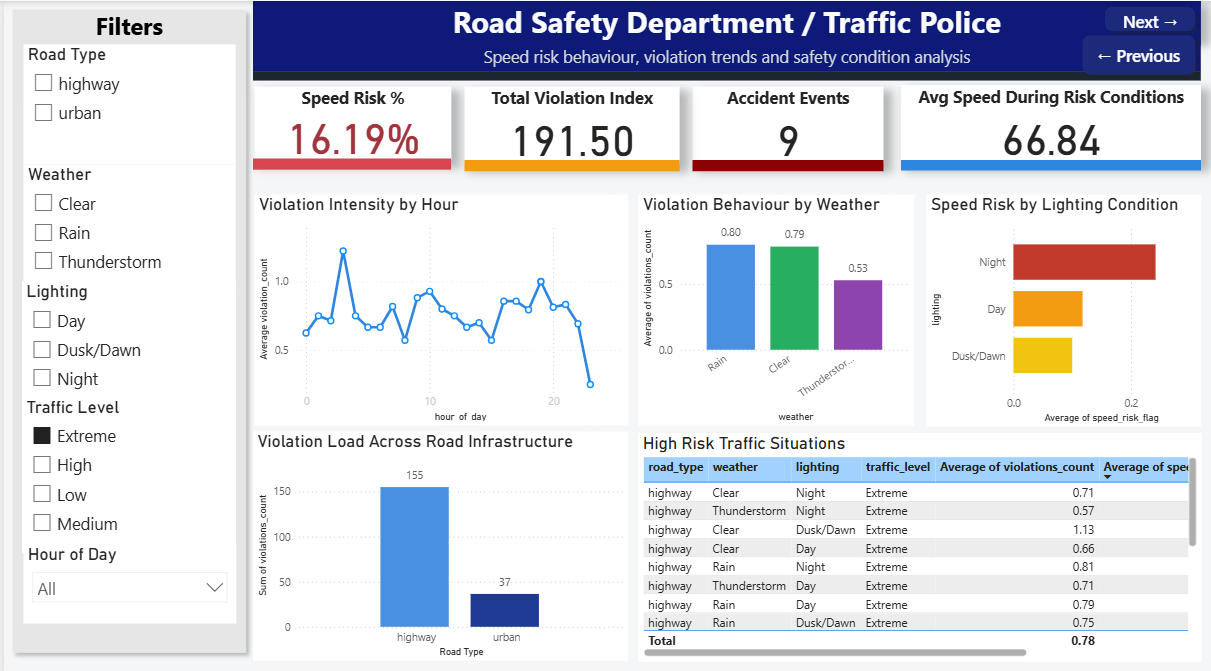

Layout of this report page (visuals, bound fields, positions):
{"tool":"powerbi","page":{"name":"Safety & Violations","canvas":[1366,768],"ordinal":1},"visuals":[{"type":"card","title":"Accident Events","fields":{"Values":["CountNonNull(traffic_cleaned_dataset.accident_occurred)"]},"box":[779.4,97,216.3,87.5],"z":0},{"type":"card","title":"Avg Speed During Risk Conditions","fields":{"Values":["traffic_cleaned_dataset.Avg Speed (Risk)"]},"box":[1014.6,95,339.3,88.2],"z":1000},{"type":"card","title":"Speed Risk %","fields":{"Values":["traffic_cleaned_dataset.Speed Risk %"]},"box":[283.1,97,222.7,82.7],"z":2000},{"type":"card","title":"Total Violation Index","fields":{"Values":["Sum(traffic_cleaned_dataset.violations_count)"]},"box":[521.7,97,243.4,87.5],"z":3000},{"type":"lineChart","title":"Violation Intensity by Hour","fields":{"Category":["traffic_cleaned_dataset.hour_of_day"],"Y":["Avg(traffic_cleaned_dataset.violations_count)"]},"box":[283.3,218.9,422.5,261.3],"z":4000},{"type":"columnChart","title":"Violation Load Across Road Infrastructure","fields":{"Category":["traffic_cleaned_dataset.road_type"],"Y":["Sum(traffic_cleaned_dataset.violations_count)"]},"box":[281.6,486.9,424.2,259.6],"z":5000},{"type":"barChart","title":"Speed Risk by Lighting Condition","fields":{"Category":["traffic_cleaned_dataset.lighting"],"Y":["Avg(traffic_cleaned_dataset.speed_risk_flag)"]},"box":[1043.4,218.9,310.5,263],"z":6000},{"type":"shape","box":[0,0,283.3,746.5],"z":7000},{"type":"slicer","title":"Weather","fields":{"Values":["traffic_cleaned_dataset.weather"]},"box":[22.3,184.5,240.2,151.1],"z":8000},{"type":"slicer","title":"Road Type","fields":{"Values":["traffic_cleaned_dataset.road_type"]},"box":[22.3,49.3,240.2,135.2],"z":9000},{"type":"slicer","title":"Traffic Level","fields":{"Values":["traffic_cleaned_dataset.traffic_level"]},"box":[20.7,448.6,241.8,176.6],"z":10000},{"type":"slicer","title":"Hour of Day","fields":{"Values":["traffic_cleaned_dataset.hour_of_day"]},"box":[22.1,614.2,240.9,89.9],"z":11000},{"type":"shape","title":"Road Safety Department / Traffic Police","box":[281.6,0,1072.3,89.9],"z":12000},{"type":"slicer","title":"Lighting","fields":{"Values":["traffic_cleaned_dataset.lighting"]},"box":[20.7,316.5,241.8,132],"z":13000},{"type":"clusteredColumnChart","title":"Violation Behaviour by Weather","fields":{"Category":["traffic_cleaned_dataset.weather"],"Y":["Avg(traffic_cleaned_dataset.violations_count)"]},"box":[717.7,218.9,312.2,261.3],"z":14000},{"type":"shape","box":[281.5,178.1,224.3,12.7],"z":15000},{"type":"shape","box":[521.7,179.7,243.4,12.7],"z":16000},{"type":"shape","box":[779.4,179.7,216.3,12.7],"z":17000},{"type":"shape","box":[1014.6,179.8,339.3,11.9],"z":18000},{"type":"tableEx","title":"High Risk Traffic Situations","fields":{"Values":["traffic_cleaned_dataset.road_type","traffic_cleaned_dataset.weather","traffic_cleaned_dataset.lighting","traffic_cleaned_dataset.traffic_level","Avg(traffic_cleaned_dataset.violations_count)","Avg(traffic_cleaned_dataset.speed_risk_flag)","traffic_cleaned_dataset.accident_occurred"]},"box":[717.7,488.6,636.2,257.9],"z":19000},{"type":"actionButton","box":[1238.6,0,115.4,40.7],"z":20000},{"type":"actionButton","box":[1213.1,32.2,140.8,57.7],"z":21000}]}

Visuals, with their boxes on the page's 1366x768 design canvas (x1, y1, x2, y2). These are canvas units, not pixel positions in the 1211x671 screenshot, which may show the page scaled, cropped or inside an application window:
"Accident Events" card: l=779, t=97, r=996, b=184
"Avg Speed During Risk Conditions" card: l=1015, t=95, r=1354, b=183
"Speed Risk %" card: l=283, t=97, r=506, b=180
"Total Violation Index" card: l=522, t=97, r=765, b=184
"Violation Intensity by Hour" lineChart: l=283, t=219, r=706, b=480
"Violation Load Across Road Infrastructure" columnChart: l=282, t=487, r=706, b=746
"Speed Risk by Lighting Condition" barChart: l=1043, t=219, r=1354, b=482
shape: l=0, t=0, r=283, b=746
"Weather" slicer: l=22, t=184, r=262, b=336
"Road Type" slicer: l=22, t=49, r=262, b=184
"Traffic Level" slicer: l=21, t=449, r=262, b=625
"Hour of Day" slicer: l=22, t=614, r=263, b=704
"Road Safety Department / Traffic Police" shape: l=282, t=0, r=1354, b=90
"Lighting" slicer: l=21, t=316, r=262, b=448
"Violation Behaviour by Weather" clusteredColumnChart: l=718, t=219, r=1030, b=480
shape: l=282, t=178, r=506, b=191
shape: l=522, t=180, r=765, b=192
shape: l=779, t=180, r=996, b=192
shape: l=1015, t=180, r=1354, b=192
"High Risk Traffic Situations" tableEx: l=718, t=489, r=1354, b=746
actionButton: l=1239, t=0, r=1354, b=41
actionButton: l=1213, t=32, r=1354, b=90
